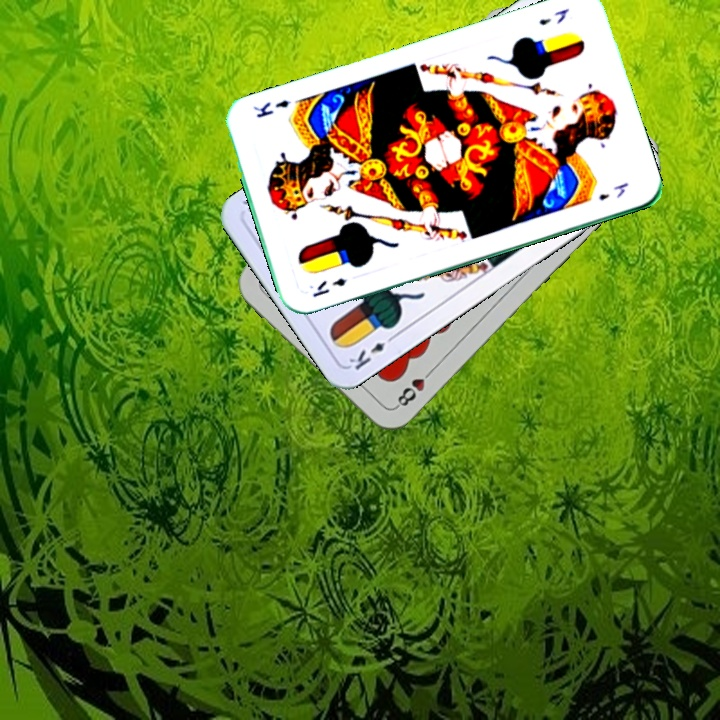EK: (344, 330, 399, 373), (308, 274, 349, 300), (535, 4, 572, 28)
H8: (391, 364, 437, 411)
